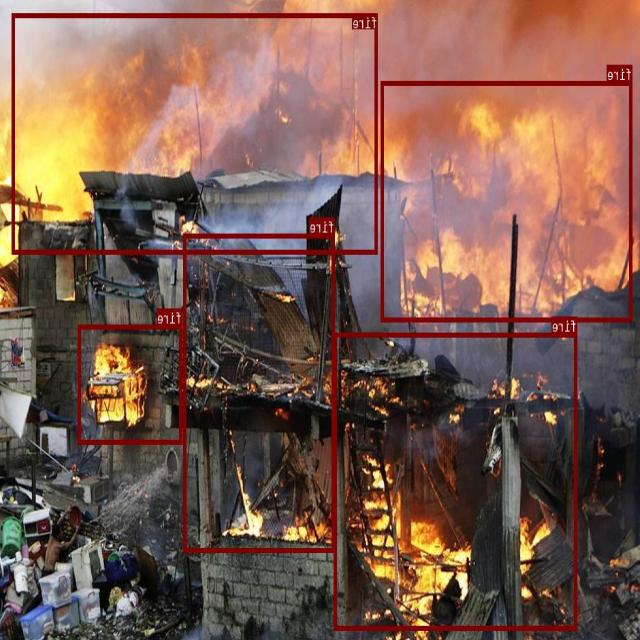fire: (12, 13, 378, 253), (334, 332, 578, 629), (382, 81, 632, 321), (184, 233, 336, 552), (79, 324, 183, 444)
